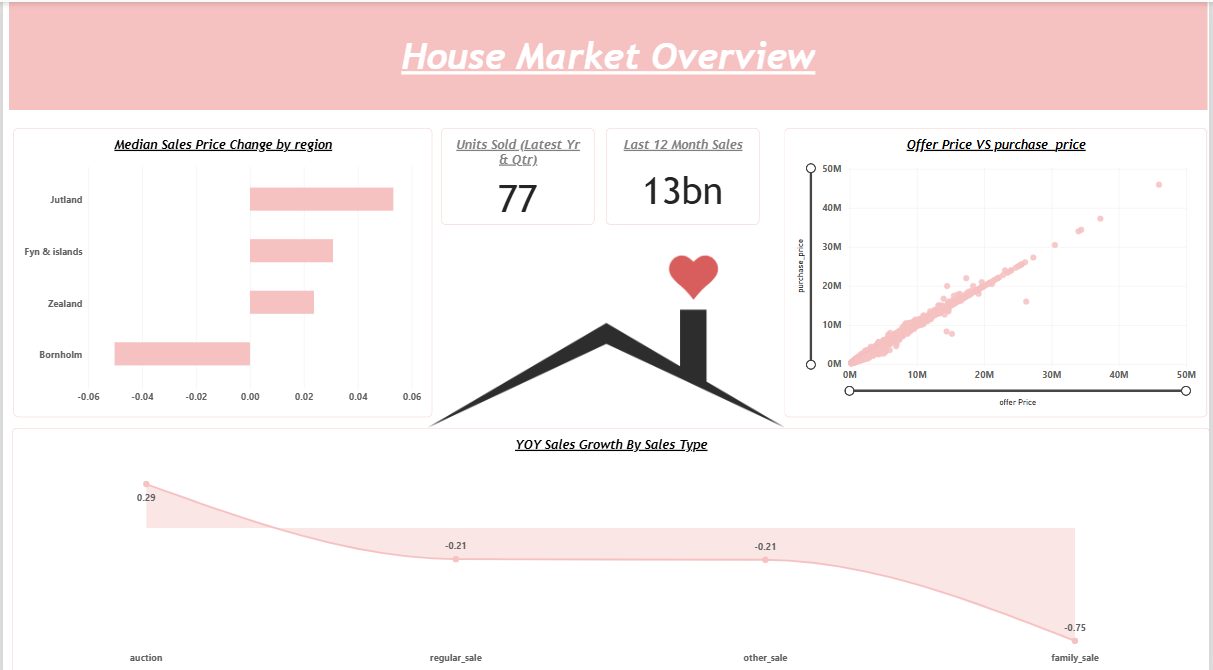

The dashboard page shown, as its layout file describes it:
{"tool":"powerbi","page":{"name":"House Market Overview","canvas":[1920,1080],"ordinal":0},"visuals":[{"type":"shape","box":[9.5,0,1906.3,171.8],"z":0},{"type":"lineChart","title":"YOY Sales Growth By Sales Type","fields":{"Category":["Housing Data.sales_type"],"Y":["Measures Table 1.YOY Sales Growth"]},"box":[15.3,678,1905,397.5],"z":1000},{"type":"scatterChart","title":"Offer Price VS purchase_price","fields":{"X":["Housing Data.offer Price"],"Y":["Housing Data.purchase_price"]},"box":[1244,200,672,460],"z":2000},{"type":"barChart","title":"Median Sales Price Change by region","fields":{"Category":["Housing Data.region"],"Y":["Measures Table 1.Median Sales Price Change (YOY)"]},"box":[16,200,666,460],"z":3000},{"type":"card","title":"Units Sold (Latest Yr & Qtr)","fields":{"Values":["Measures Table 1.Units Solds in latest Year & Quarter"]},"box":[696,200,244,154],"z":3001},{"type":"card","title":"Last 12 Month Sales","fields":{"Values":["Measures Table 1.Last 12 Month Sales"]},"box":[960,200,244,154],"z":3002}]}

Visuals, with their boxes in screenshot pixels (x1, y1, x2, y2), scaled from the page's 1920x1080 canvas onto the 1213x670 screenshot:
shape: bbox(6, 0, 1210, 107)
"YOY Sales Growth By Sales Type" lineChart: bbox(10, 421, 1212, 667)
"Offer Price VS purchase_price" scatterChart: bbox(786, 124, 1210, 409)
"Median Sales Price Change by region" barChart: bbox(10, 124, 431, 409)
"Units Sold (Latest Yr & Qtr)" card: bbox(440, 124, 594, 220)
"Last 12 Month Sales" card: bbox(606, 124, 761, 220)
